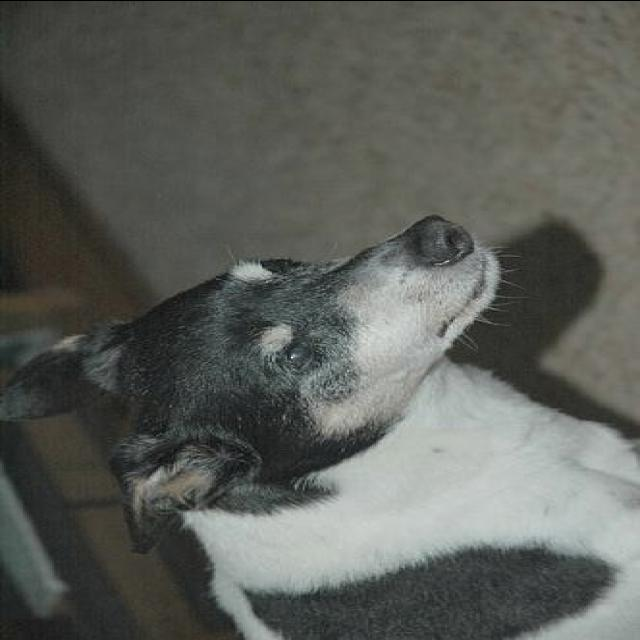toy_terrier: (0, 214, 638, 640)
